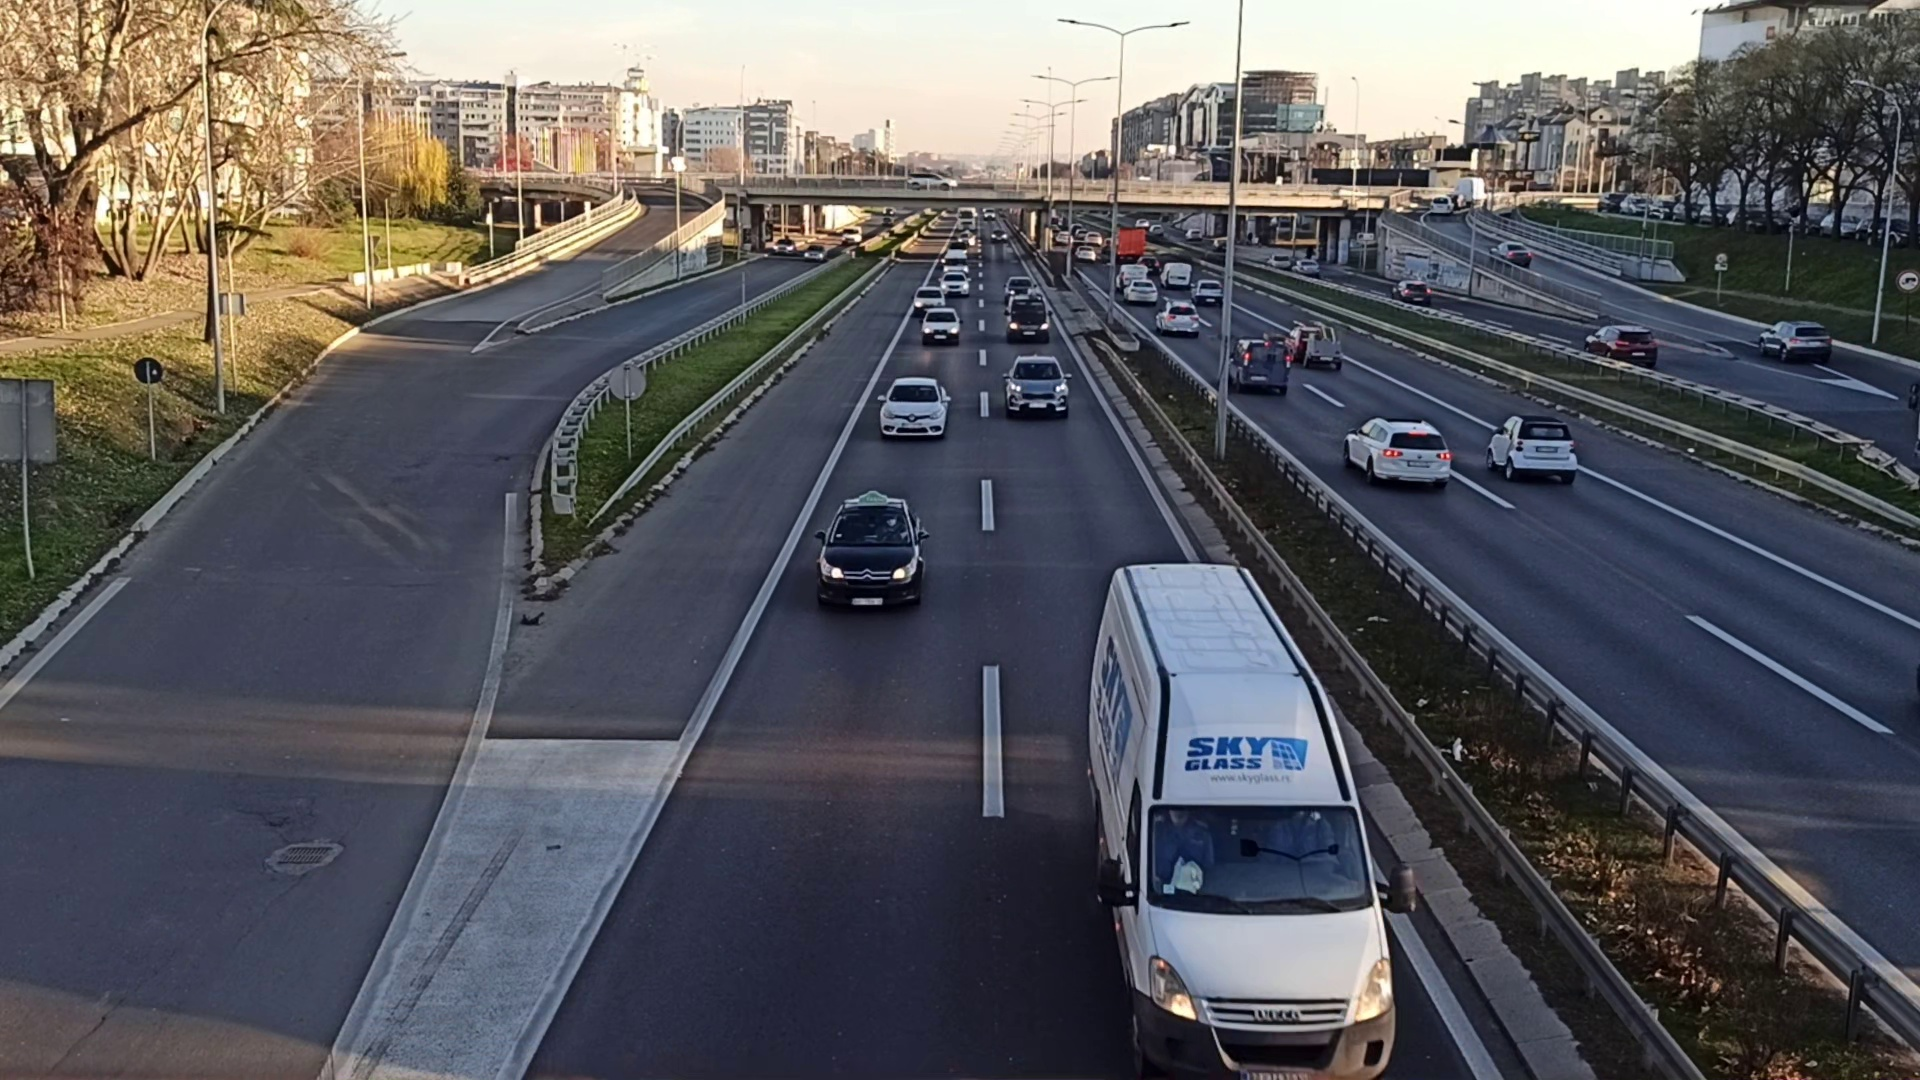car: (818, 495, 924, 613), (1342, 414, 1452, 492), (1487, 411, 1578, 487), (878, 375, 949, 448), (1005, 356, 1068, 419), (1584, 324, 1659, 369), (1760, 322, 1836, 363), (1155, 299, 1200, 335), (920, 306, 961, 344)
van: (1083, 558, 1395, 1080), (1229, 335, 1288, 397)
